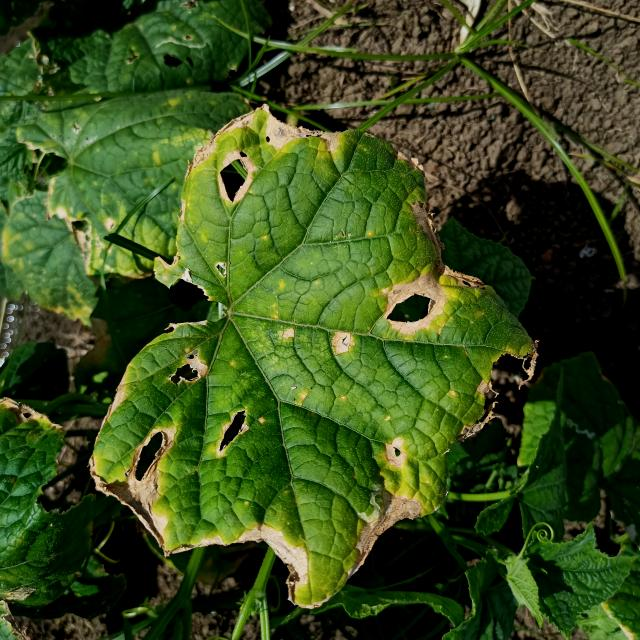disease_cucumber: (86, 100, 536, 608)
